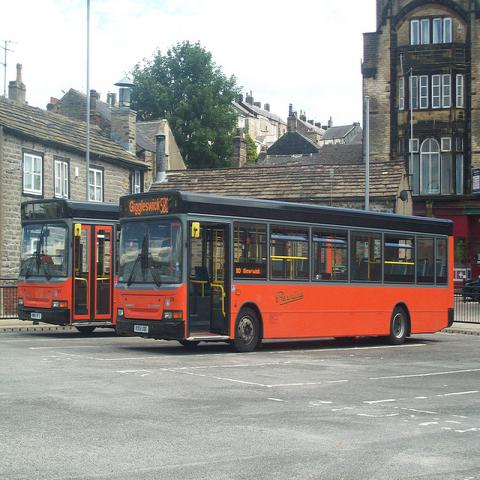bus: (114, 190, 456, 355), (18, 200, 116, 336)
car: (461, 277, 479, 305)
